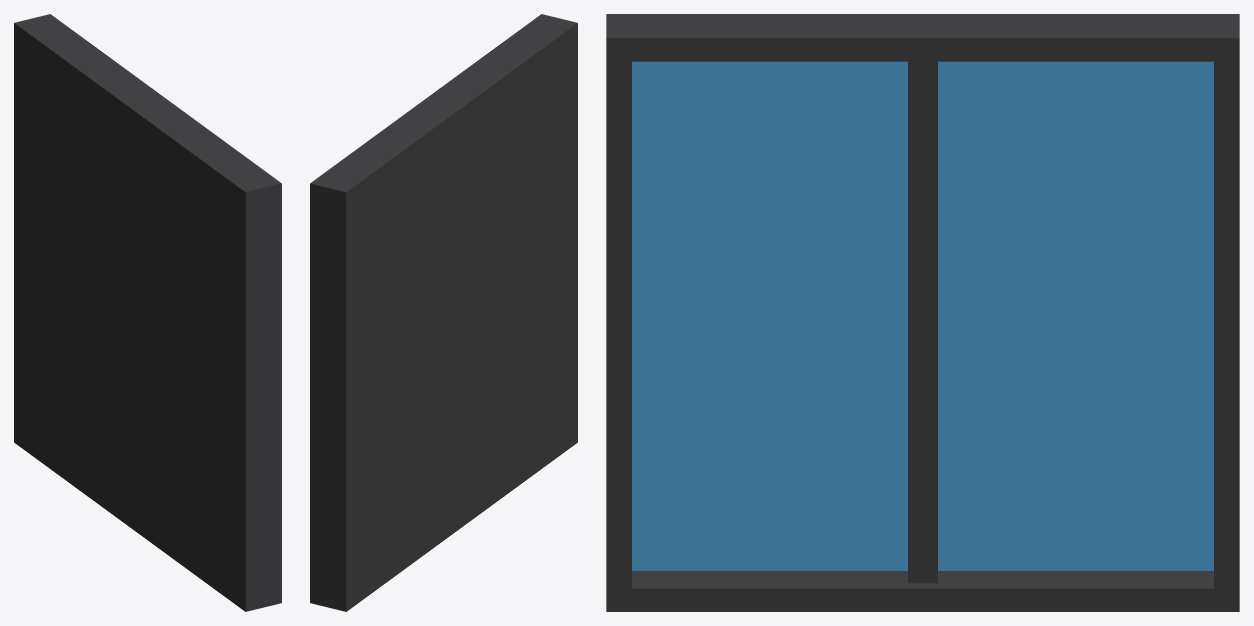
File: Window.fbx
3 renders of one model, left to right at view 1: azimuth 30°, elevation 25°; view 2: azimuth 150°, elevation 25°; view 3: azimuth 270°, elevation 25°, orthographic. The views are drawn at different scales.
Parts seen in each view (by area): view 1: Cube; view 2: Cube; view 3: Cube, Cube.001.
Boxes of the visible parts, x1,y1,x2,y2 form: Cube: (14,14,281,611); Cube: (310,14,577,611); Cube: (606,14,1239,611); Cube.001: (908,61,937,583).
Size of the model in its own units: 18.13 by 200 by 200.
